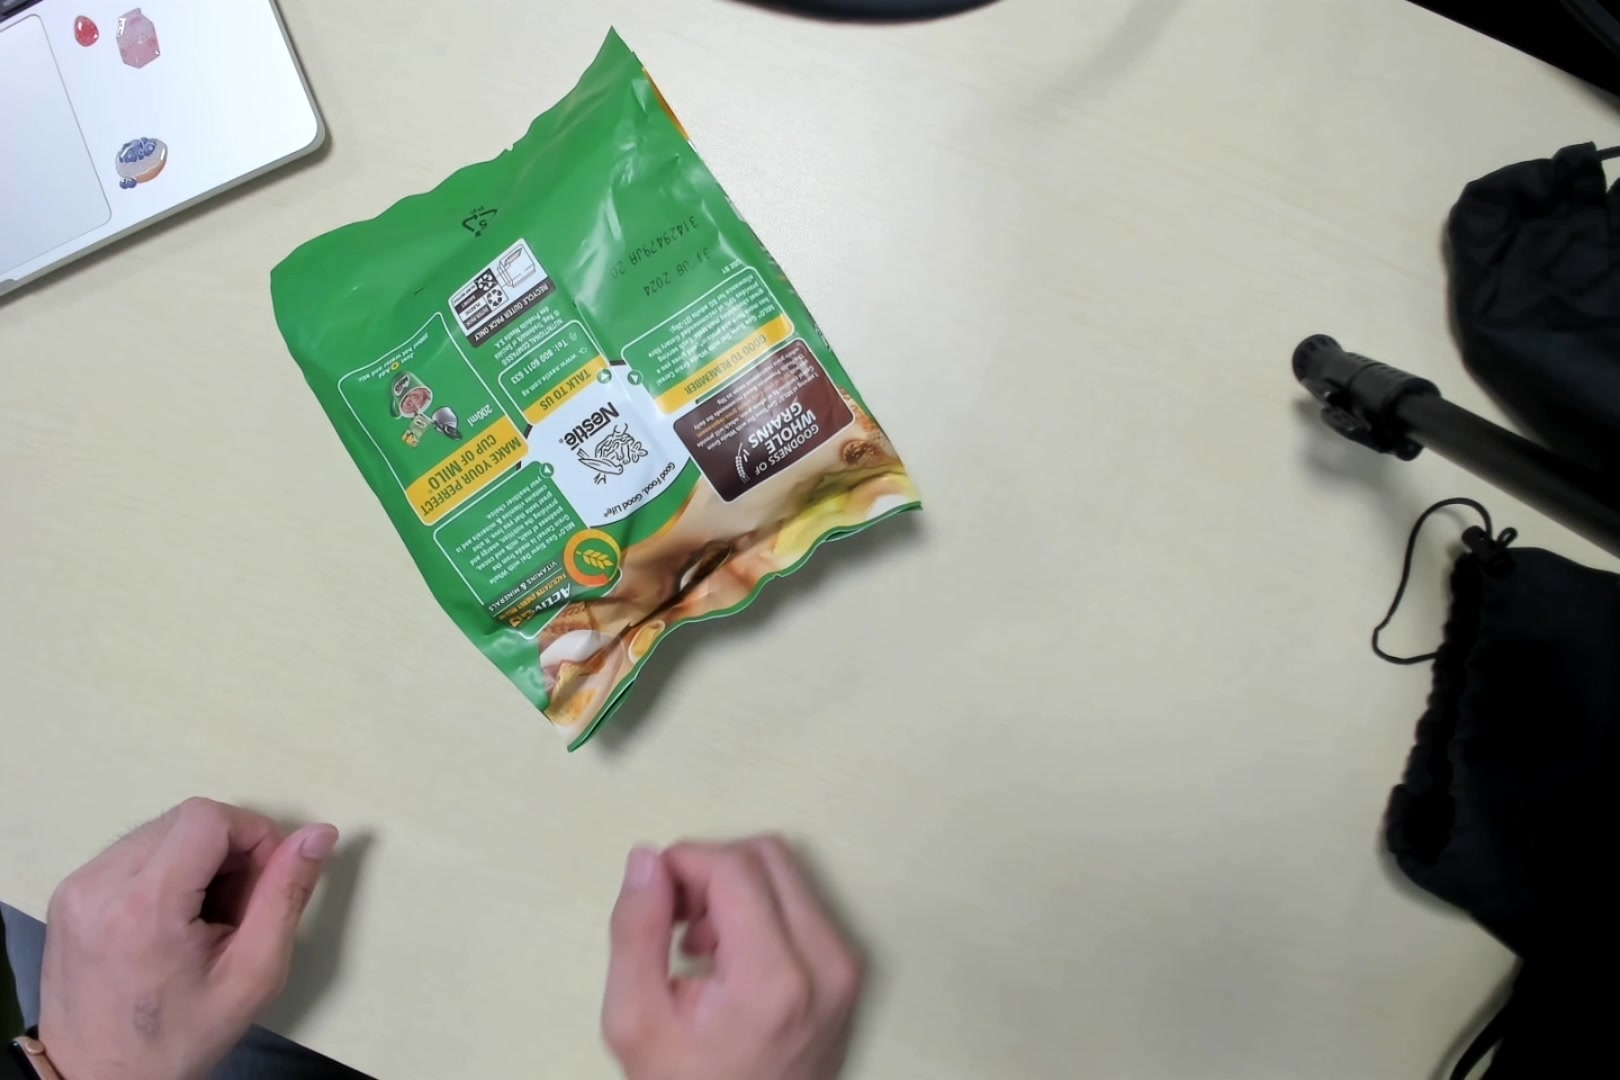ChocolateMaltPowder_300-399g_NonHalal_NonHealthy: (292, 71, 906, 729)
